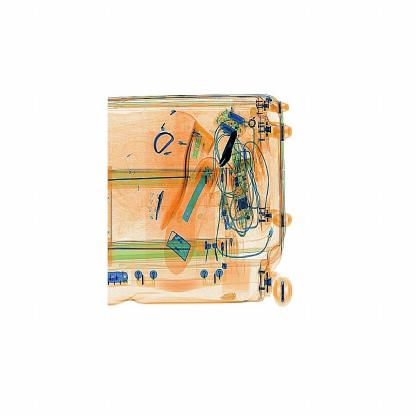knife: (216, 125, 242, 171)
